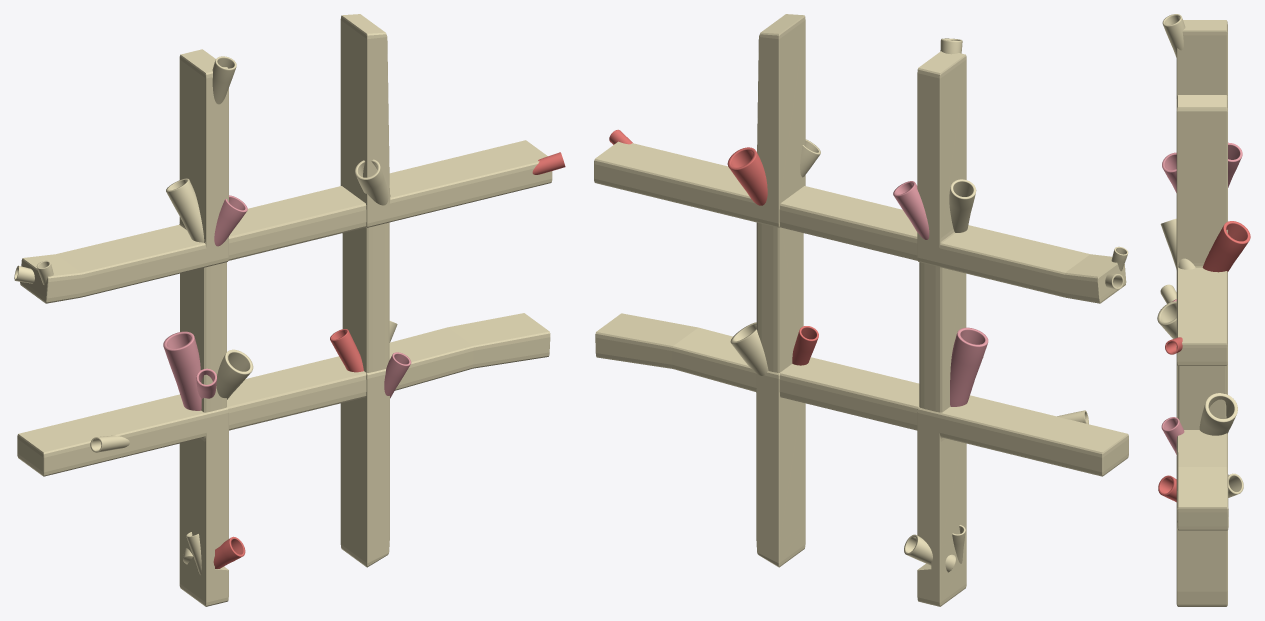
File: Bounds (UW).glb
3 renders of one model, left to right at view 1: azimuth 30°, elevation 25°; view 2: azimuth 150°, elevation 25°; view 3: azimuth 270°, elevation 25°, orthographic. The views are drawn at different scales.
Parts seen in each view (by area): view 1: Bounds (Underwater); view 2: Bounds (Underwater); view 3: Bounds (Underwater).
Part boxes in pixels (x1,y1,x2,y2): Bounds (Underwater): (14,14,565,606); Bounds (Underwater): (594,14,1128,606); Bounds (Underwater): (1157,14,1250,606).
Bounding box in the file's own units: 9.15 × 8.99 × 1.46.
